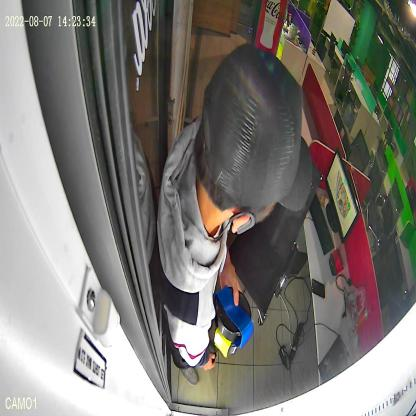blue: (213, 285, 254, 349)
yellow: (213, 325, 238, 359)
